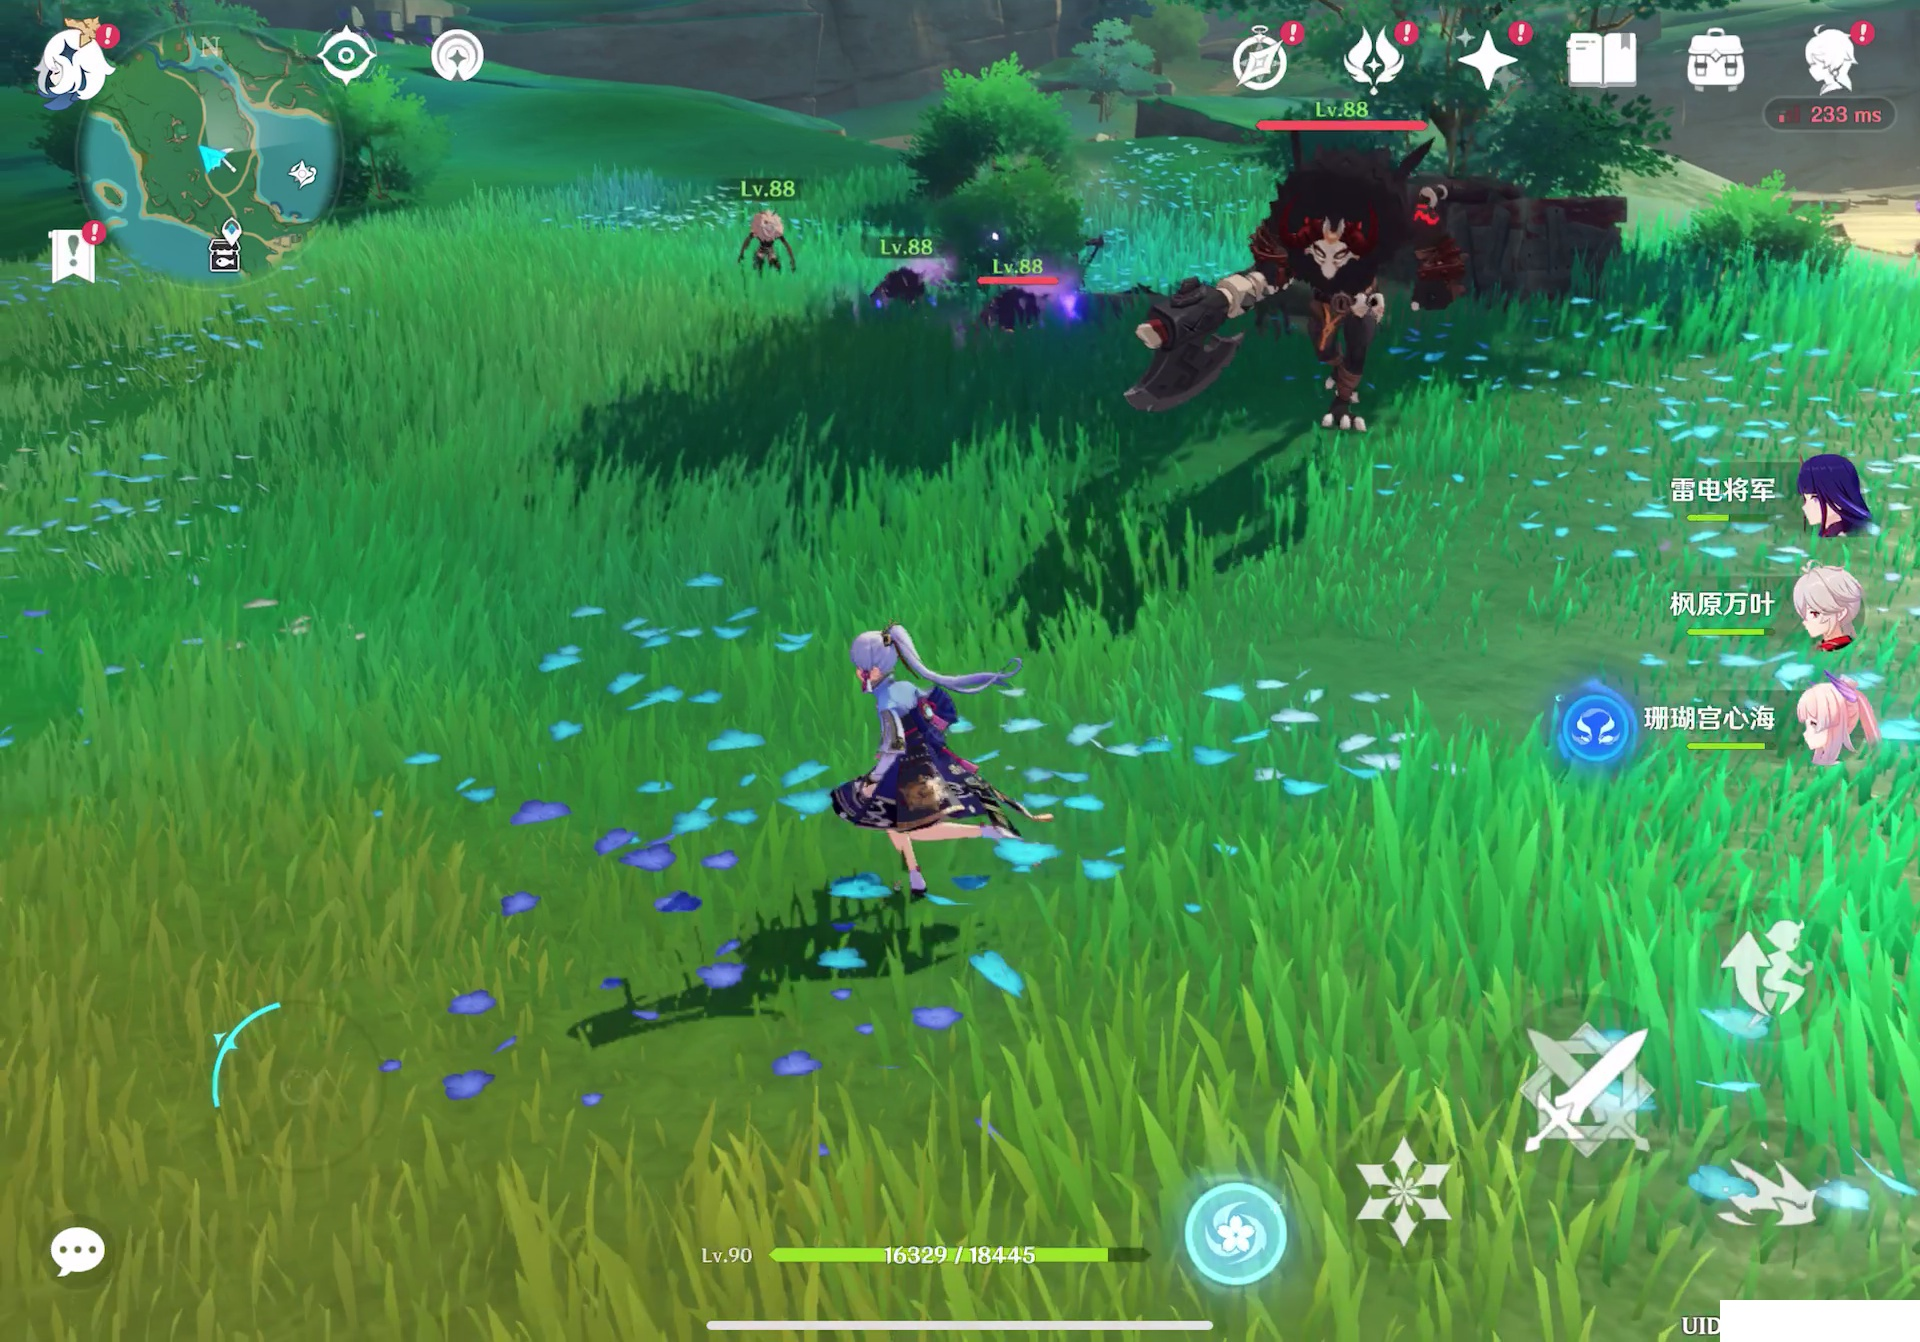NTR: (1137, 136, 1490, 459)
丘丘人: (978, 286, 1067, 349), (732, 206, 805, 277), (867, 258, 950, 314)
神里绫龟: (818, 614, 1018, 885)
